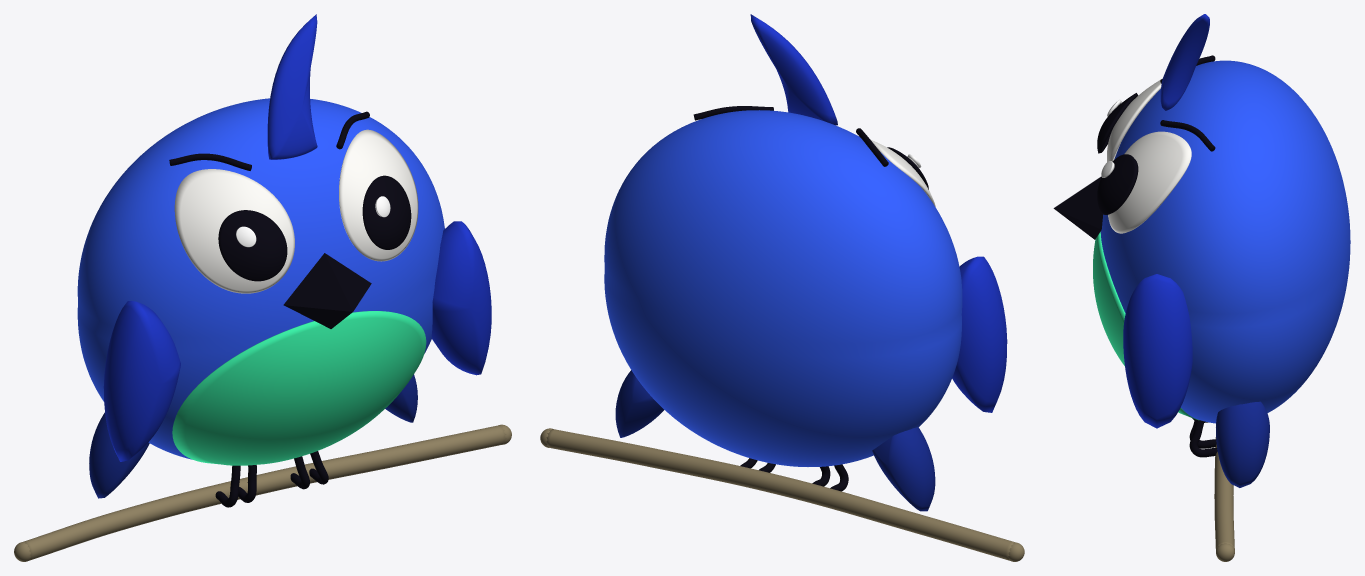
The model's file is dove.glb.
The picture shows the model from 3 angles, left to right: view 1: azimuth 30°, elevation 25°; view 2: azimuth 150°, elevation 25°; view 3: azimuth 270°, elevation 25°; orthographic projection. The views are drawn at different scales.
Parts seen in each view (by area): view 1: Body | continuous round head and torso, Breast | broad mint oval, Perch | simple taupe branch, Wing L, Eye white L, Wing R, Eye white R, Crest | single curved blue quiff, Beak | short diamond, Pupil L, Pupil R, Lower tail feather L (+1 smaller); view 2: Body | continuous round head and torso, Perch | simple taupe branch, Wing L, Crest | single curved blue quiff, Lower tail feather L, Lower tail feather R, Eye white L; view 3: Body | continuous round head and torso, Wing R, Eye white R, Lower tail feather R, Crest | single curved blue quiff, Breast | broad mint oval, Pupil R, Beak | short diamond, Perch | simple taupe branch, Eye white L, Pupil L, Foot R1 (+1 smaller).
Part boxes in pixels (<box>): Body | continuous round head and torso: <box>77,98,444,459</box>; Breast | broad mint oval: <box>172,311,426,465</box>; Perch | simple taupe branch: <box>23,425,506,560</box>; Wing L: <box>103,301,180,461</box>; Eye white L: <box>174,169,294,293</box>; Wing R: <box>431,221,491,375</box>; Eye white R: <box>339,129,418,261</box>; Crest | single curved blue quiff: <box>267,14,317,159</box>; Beak | short diamond: <box>283,253,371,328</box>; Pupil L: <box>218,210,287,281</box>; Pupil R: <box>362,175,411,249</box>; Lower tail feather L: <box>89,412,149,498</box>; Body | continuous round head and torso: <box>604,110,962,466</box>; Perch | simple taupe branch: <box>545,429,1014,560</box>; Wing L: <box>952,256,1007,412</box>; Crest | single curved blue quiff: <box>750,14,837,125</box>; Lower tail feather L: <box>872,427,935,511</box>; Lower tail feather R: <box>615,370,663,437</box>; Eye white L: <box>871,140,935,206</box>; Body | continuous round head and torso: <box>1100,60,1350,423</box>; Wing R: <box>1123,274,1192,428</box>; Eye white R: <box>1108,131,1191,233</box>; Lower tail feather R: <box>1216,401,1269,487</box>; Crest | single curved blue quiff: <box>1160,14,1209,110</box>; Breast | broad mint oval: <box>1093,232,1199,420</box>; Pupil R: <box>1097,154,1138,214</box>; Beak | short diamond: <box>1053,176,1103,239</box>; Perch | simple taupe branch: <box>1214,437,1234,550</box>; Eye white L: <box>1107,80,1161,162</box>; Pupil L: <box>1097,93,1138,153</box>; Foot R1: <box>1189,420,1217,457</box>.
Bounding box in the file's own units: 4.48 × 4.2 × 2.47.
